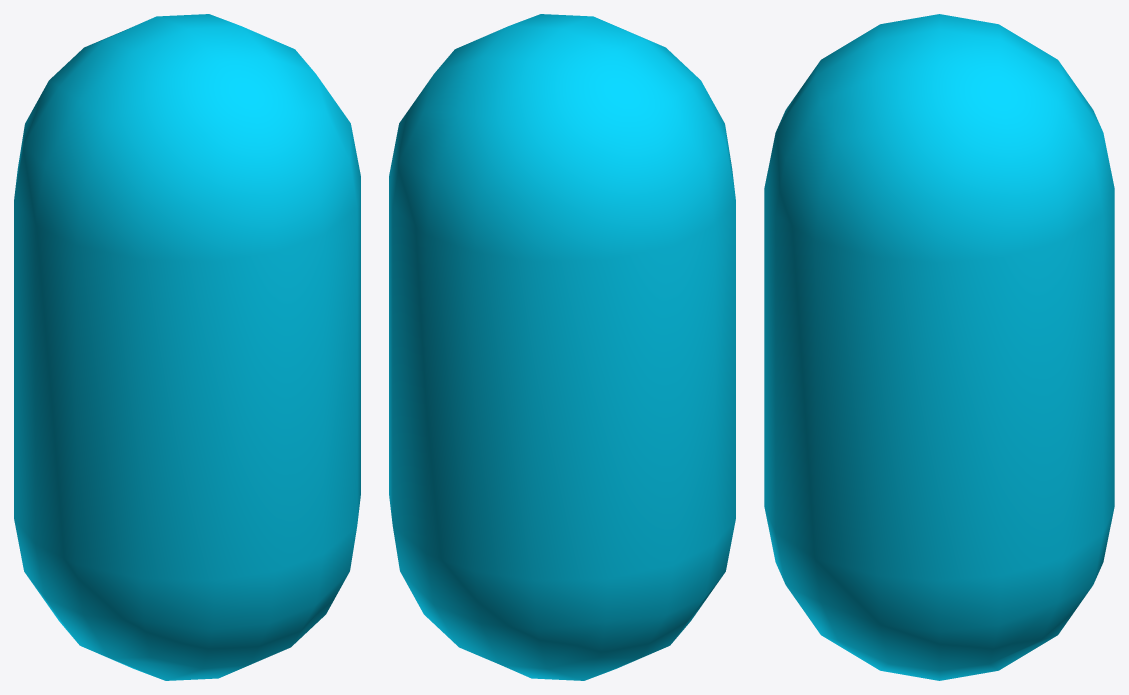
Rendered from player_capsule.glb.
3 renders of one model, left to right at view 1: azimuth 30°, elevation 25°; view 2: azimuth 150°, elevation 25°; view 3: azimuth 270°, elevation 25°, orthographic.
Parts seen in each view (by area): view 1: Capsule; view 2: Capsule; view 3: Capsule.
Boxes of the visible parts, <box> form: Capsule: <box>14,14,360,680</box>; Capsule: <box>389,14,735,680</box>; Capsule: <box>764,14,1114,680</box>.
Bounding box in the file's own units: 1 × 2 × 1.
Materials: 1 (1 with a texture image).
